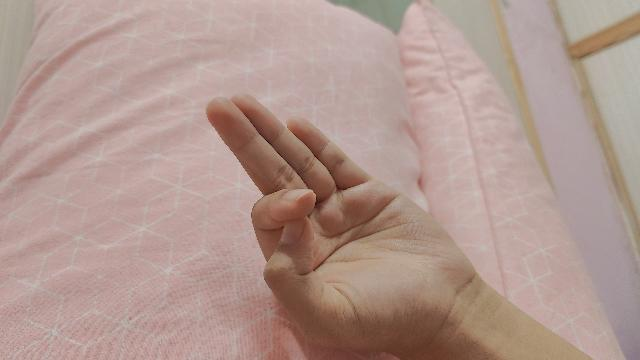aral: (207, 94, 592, 360)
